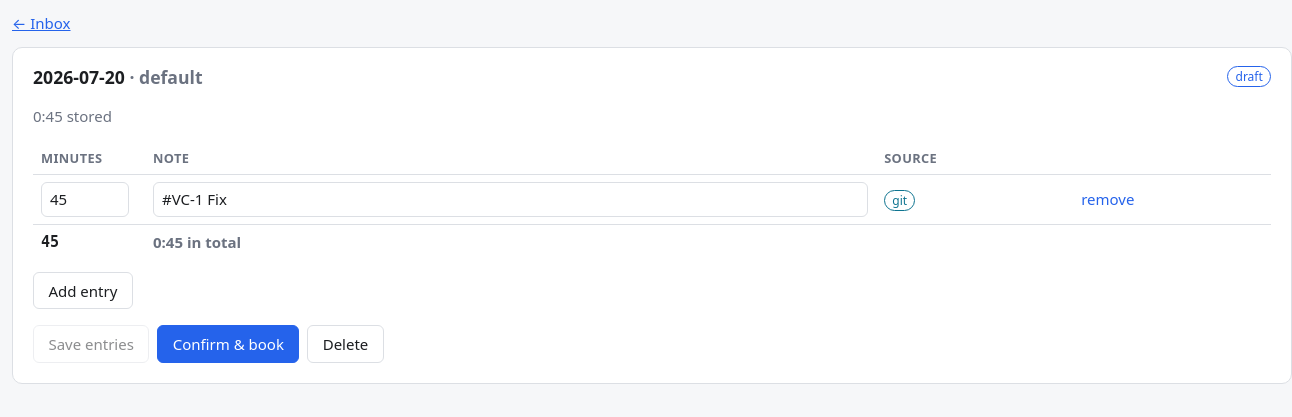
Test case: ProposalDetail › discards changes back to the stored entries
This screenshot has width=1292, height=417.
Check: the field showing "#VC-1 Fix" is shown, box [153,182,868,218]
Click the button "remove" at (1108, 200), box [1081,188,1134,211]
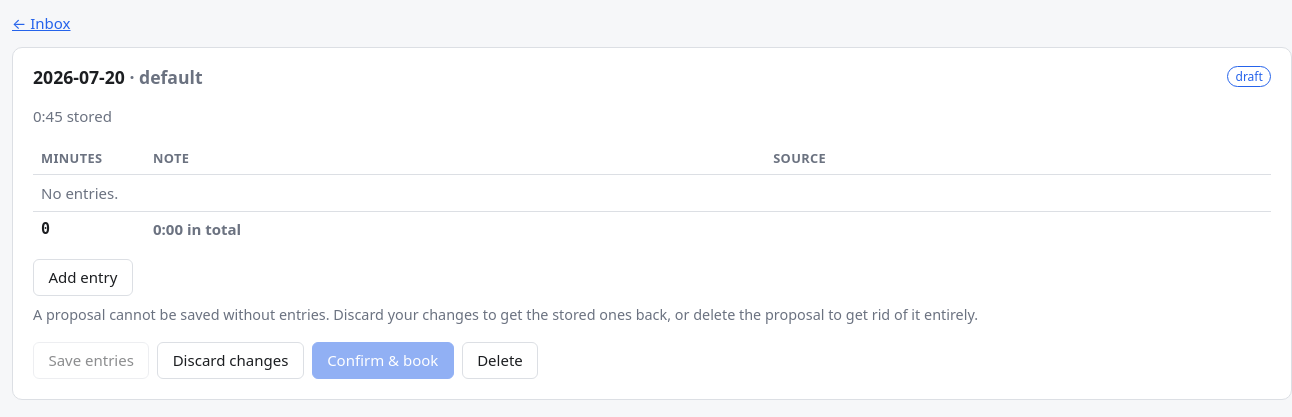
Check: the text "No entries." is shown, box [33,175,1271,211]
Click the button "Discard changes" at (231, 360), box [157,342,304,379]
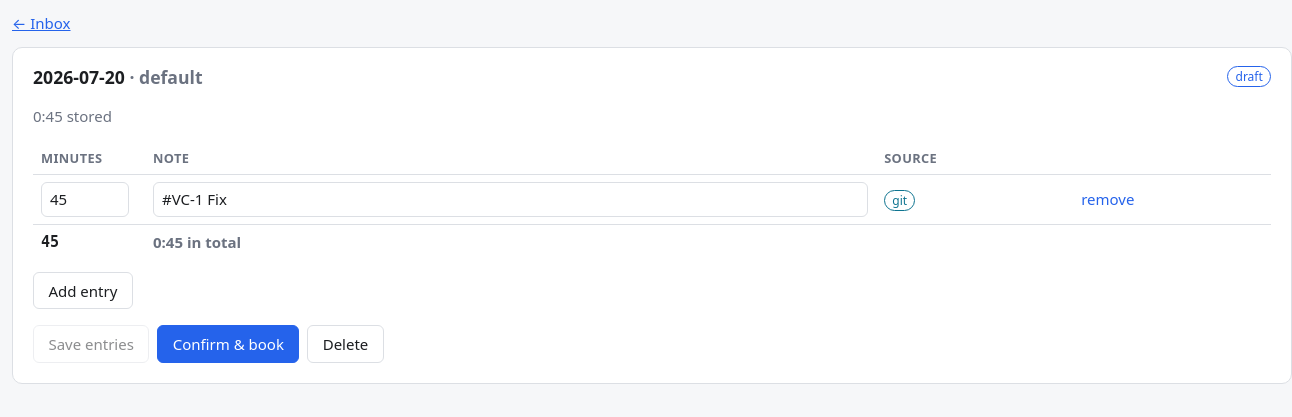
Check: the field showing "#VC-1 Fix" is shown, box [153,182,868,218]
Check: the button "Confirm & book" is enabled, box [157,325,299,363]
